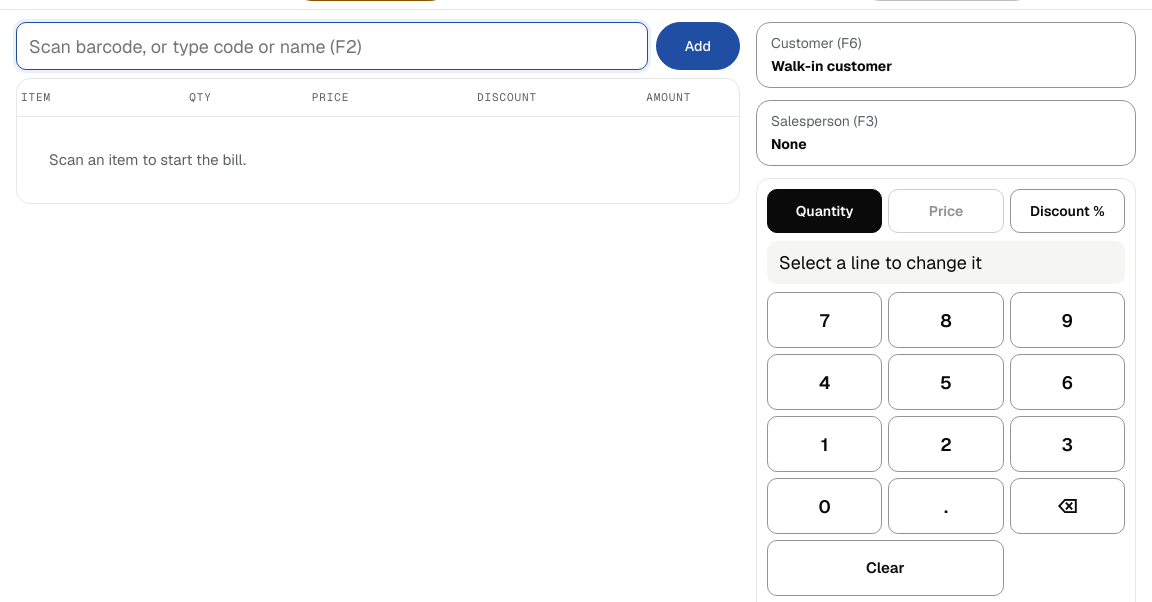
Scenario: new offers on the bill (plan 11 B3) › any 3 tees for ₹999: the total and the saving are shown
Expected: the form is shown, 16,22 -> 740,70
Type "TEE-RED" into the field named "Scan a barcode" at (332, 46), box 16,22 -> 648,70
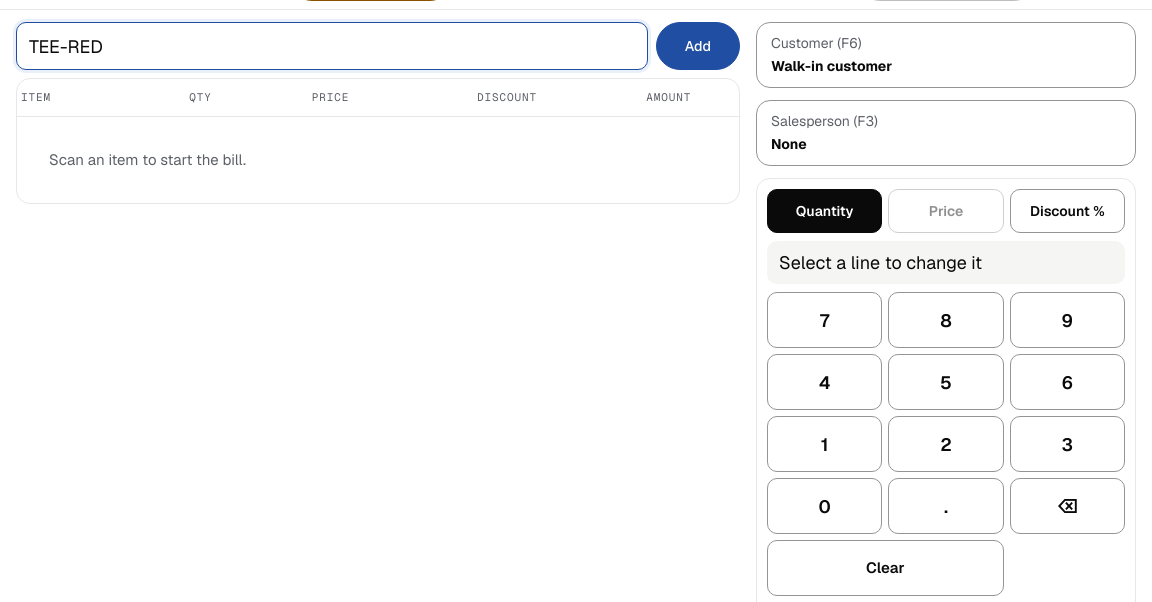
Submit the form, box 16,22 -> 740,70
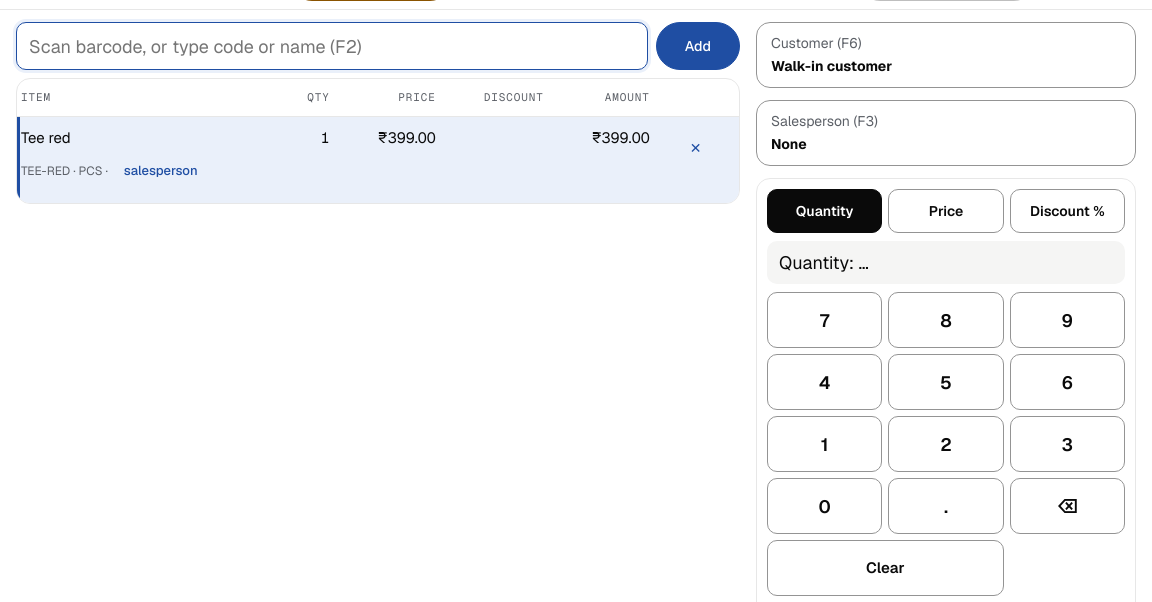
Type "TEE-BLUE" into the field named "Scan a barcode" at (332, 46), box 16,22 -> 648,70
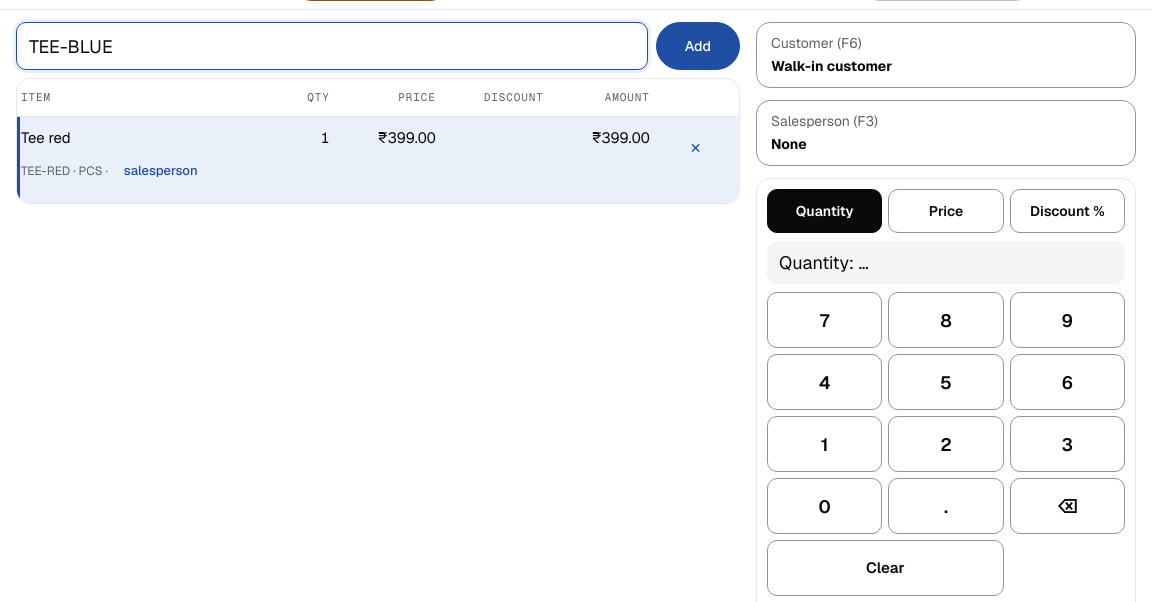
Submit the form, box 16,22 -> 740,70
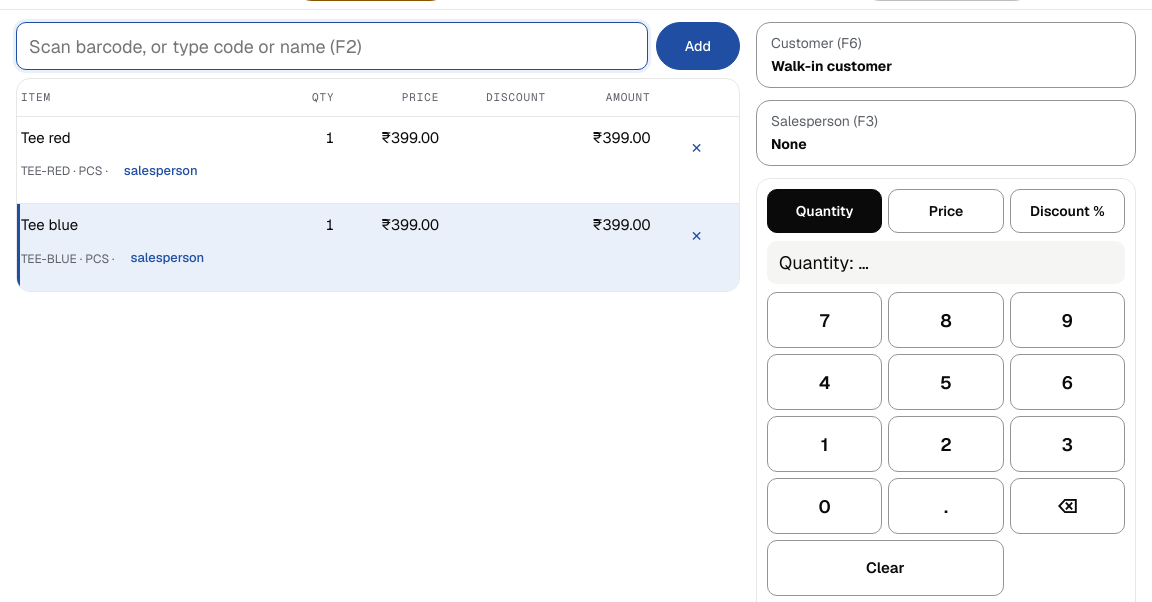
Type "TEE-BLACK" into the field named "Scan a barcode" at (332, 46), box 16,22 -> 648,70
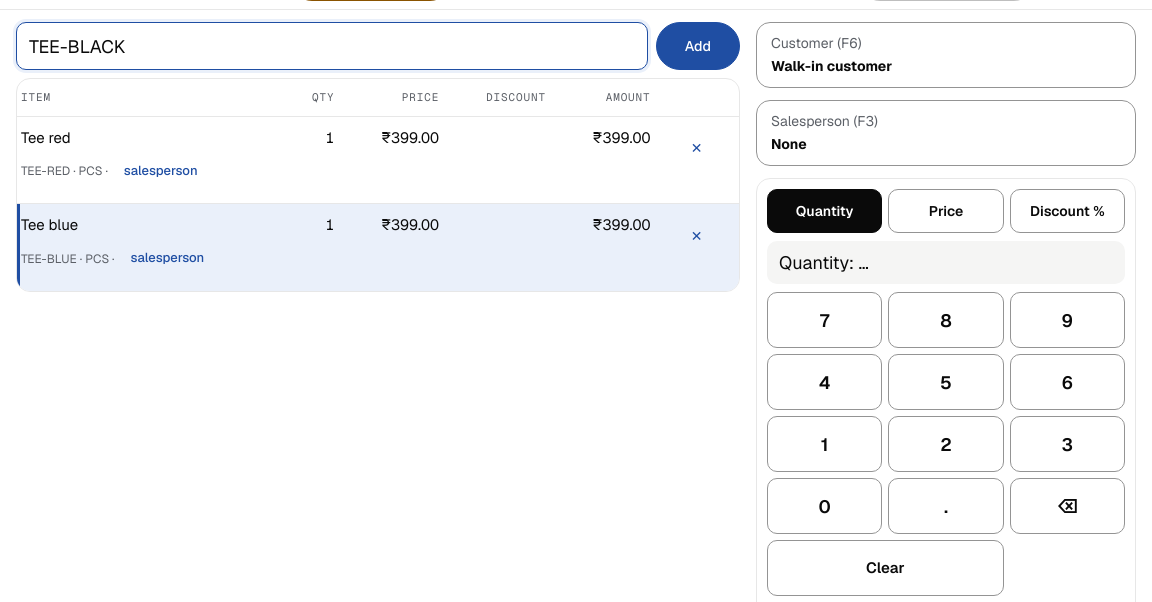
Submit the form, box 16,22 -> 740,70
(page scrolled)
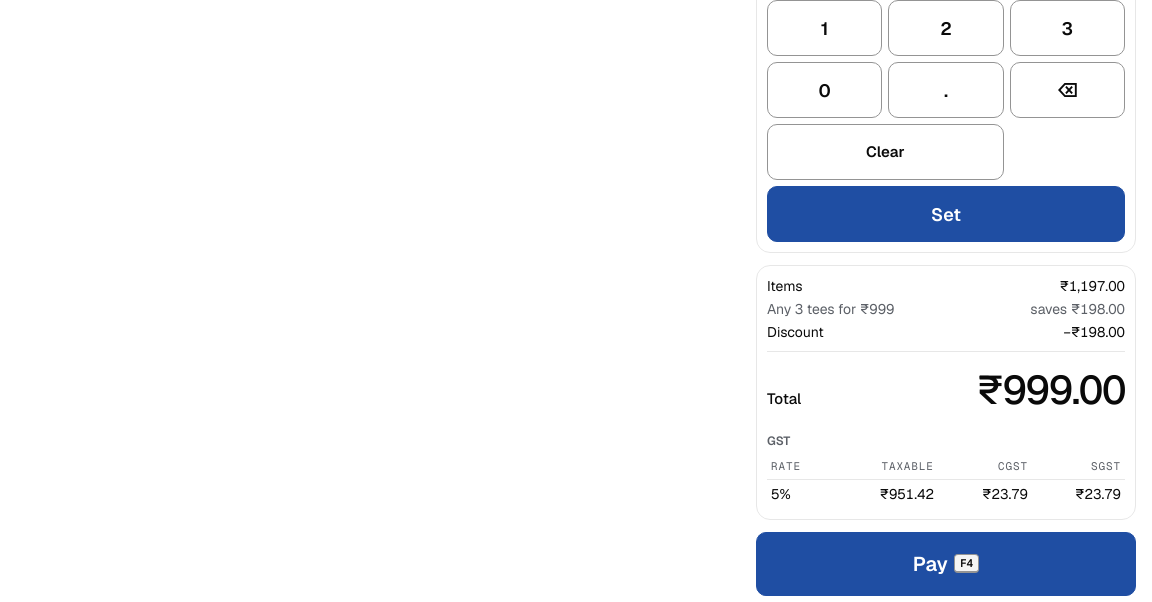
Expected: the text with test id "bill-total" reads "₹999.00", 976,364 -> 1125,416
Expected: the text "Any 3 tees for ₹999" is shown, 767,300 -> 894,318
Expected: the text "saves ₹198.00" is shown, 1030,299 -> 1125,320
